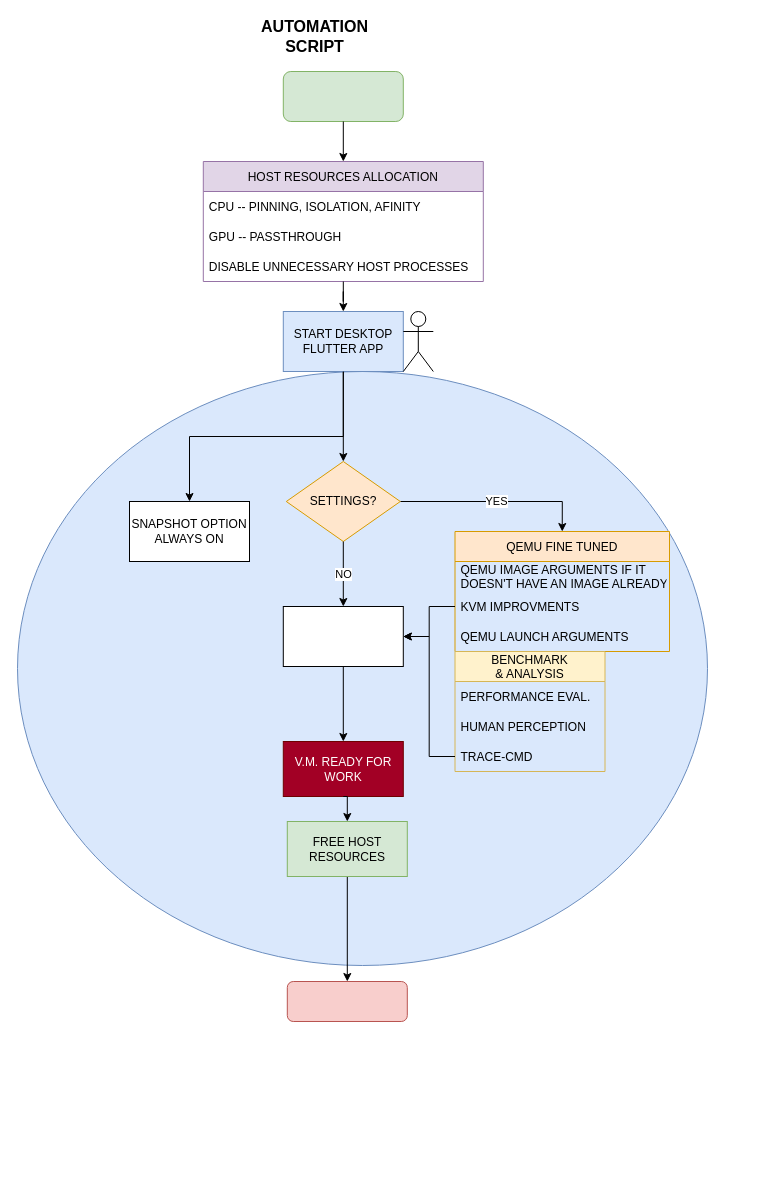
The diagram is 757 pixels wide and 1178 high, and some of its shapes have lost their labels. The centre of each missing label's shape, as x and y in pixels:
EXIT SCRIPT: point 346,1001
START HOST SCRIPT: point 342,96
USER INTERACTION: point 417,341
V.M. START: point 342,636
